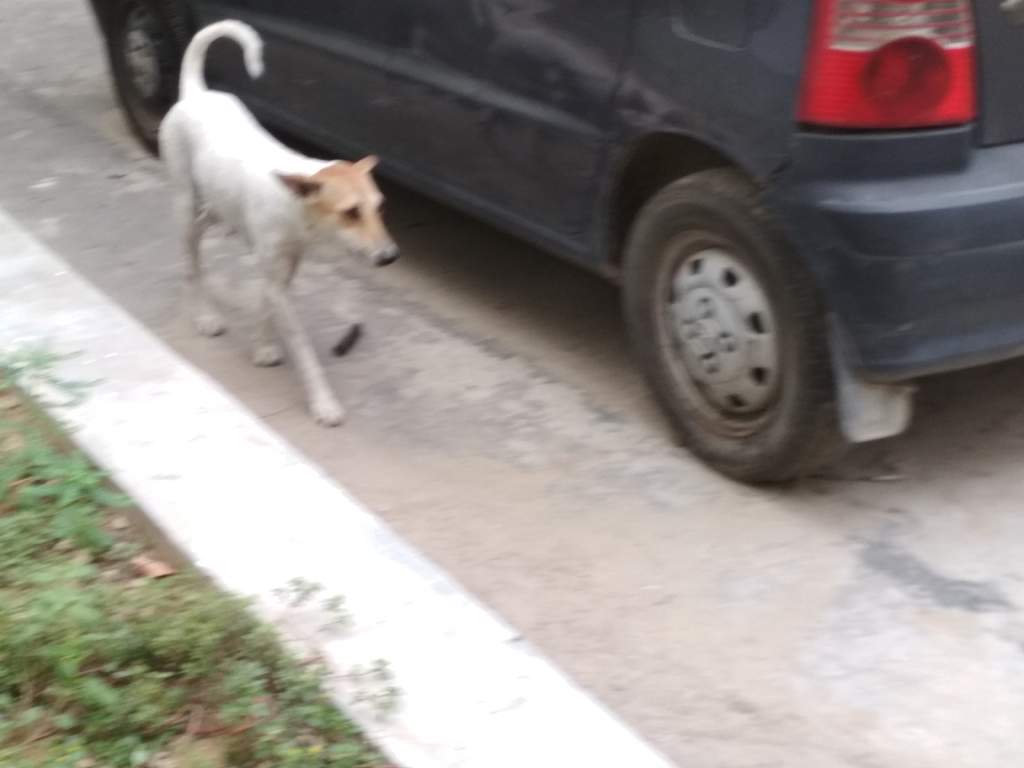dog: (159, 20, 400, 428)
